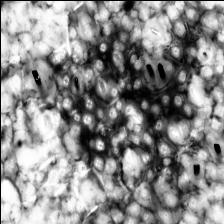Potentially Malignant Skin Tumors: (160, 28, 208, 84)
